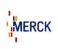Merck: (6, 9, 52, 44)
